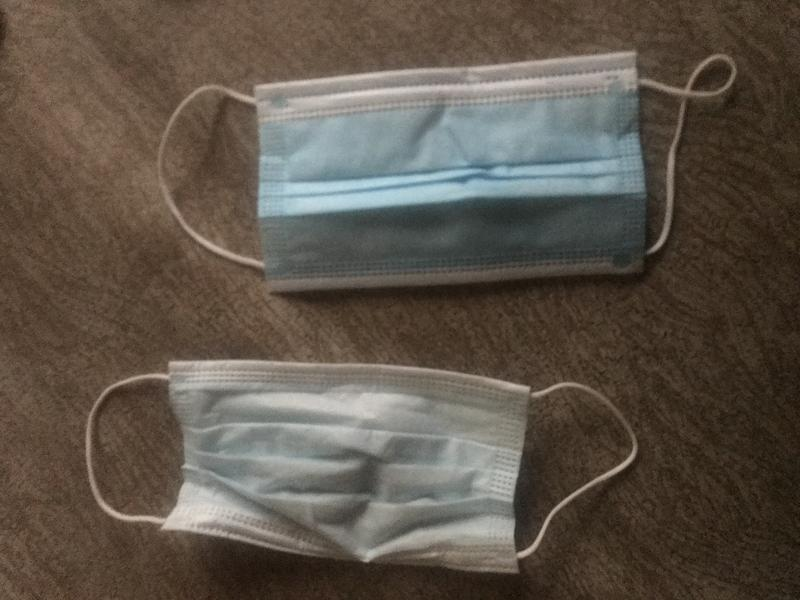medical_mask: (158, 54, 737, 292), (86, 361, 638, 572)
